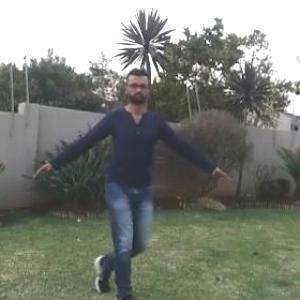land: (59, 85, 192, 248)
